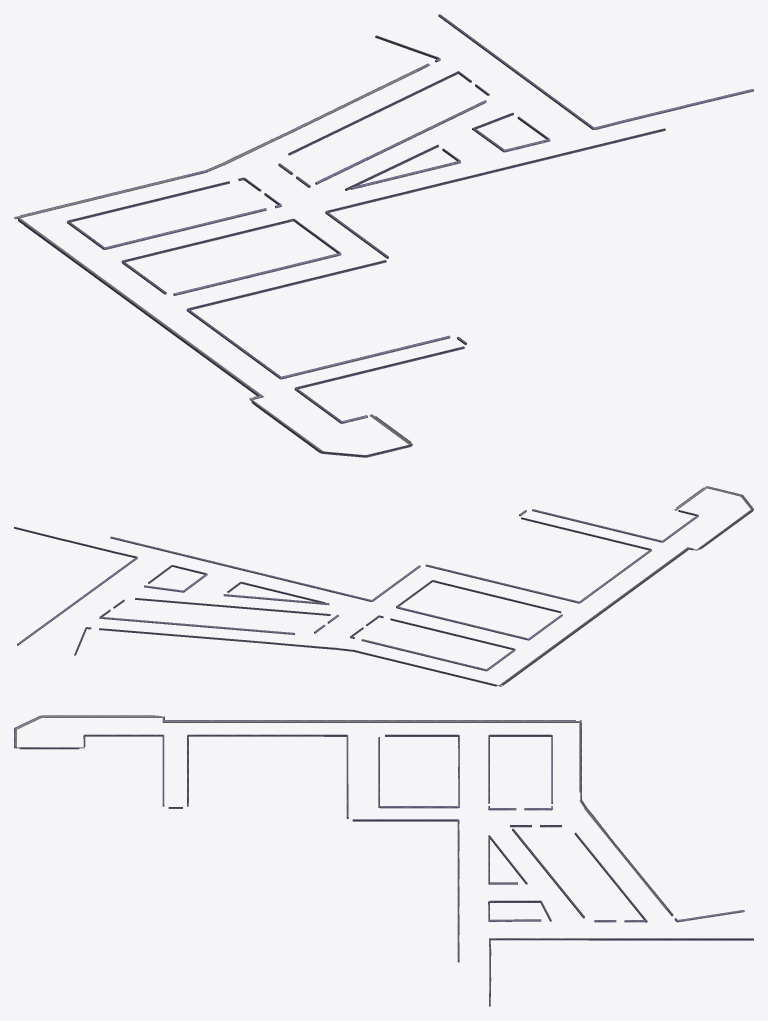
File: Curbs_Connected.fbx
The picture shows the model from 3 angles, top to bottom: view 1: azimuth 30°, elevation 25°; view 2: azimuth 150°, elevation 25°; view 3: azimuth 270°, elevation 25°; orthographic projection. The views are drawn at different scales.
Visible parts, largest first — view 1: no part large enough to name; view 2: no part large enough to name; view 3: Cube__5_.
Boxes of the visible parts, box(x1,y1,x2,y2) form: Cube__5_: box(162, 721, 579, 722).
Bounding box in the file's own units: 15530 × 45.43 × 16767.
2 materials, 1 textured.
